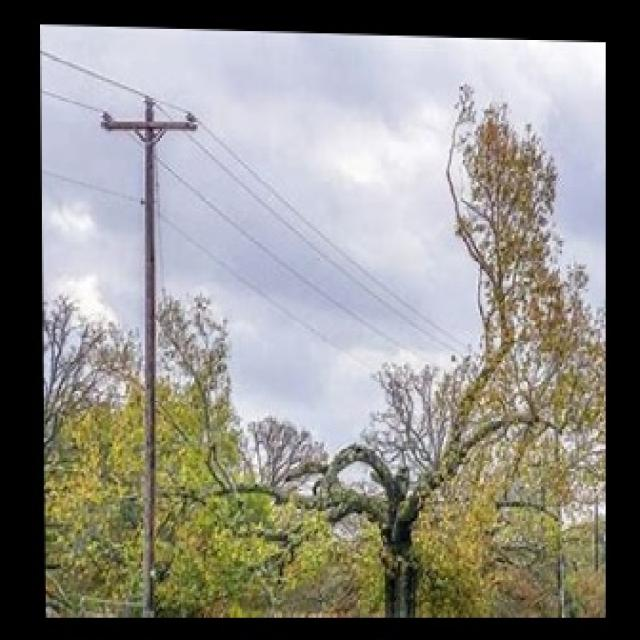utility poles: (98, 79, 206, 616)
